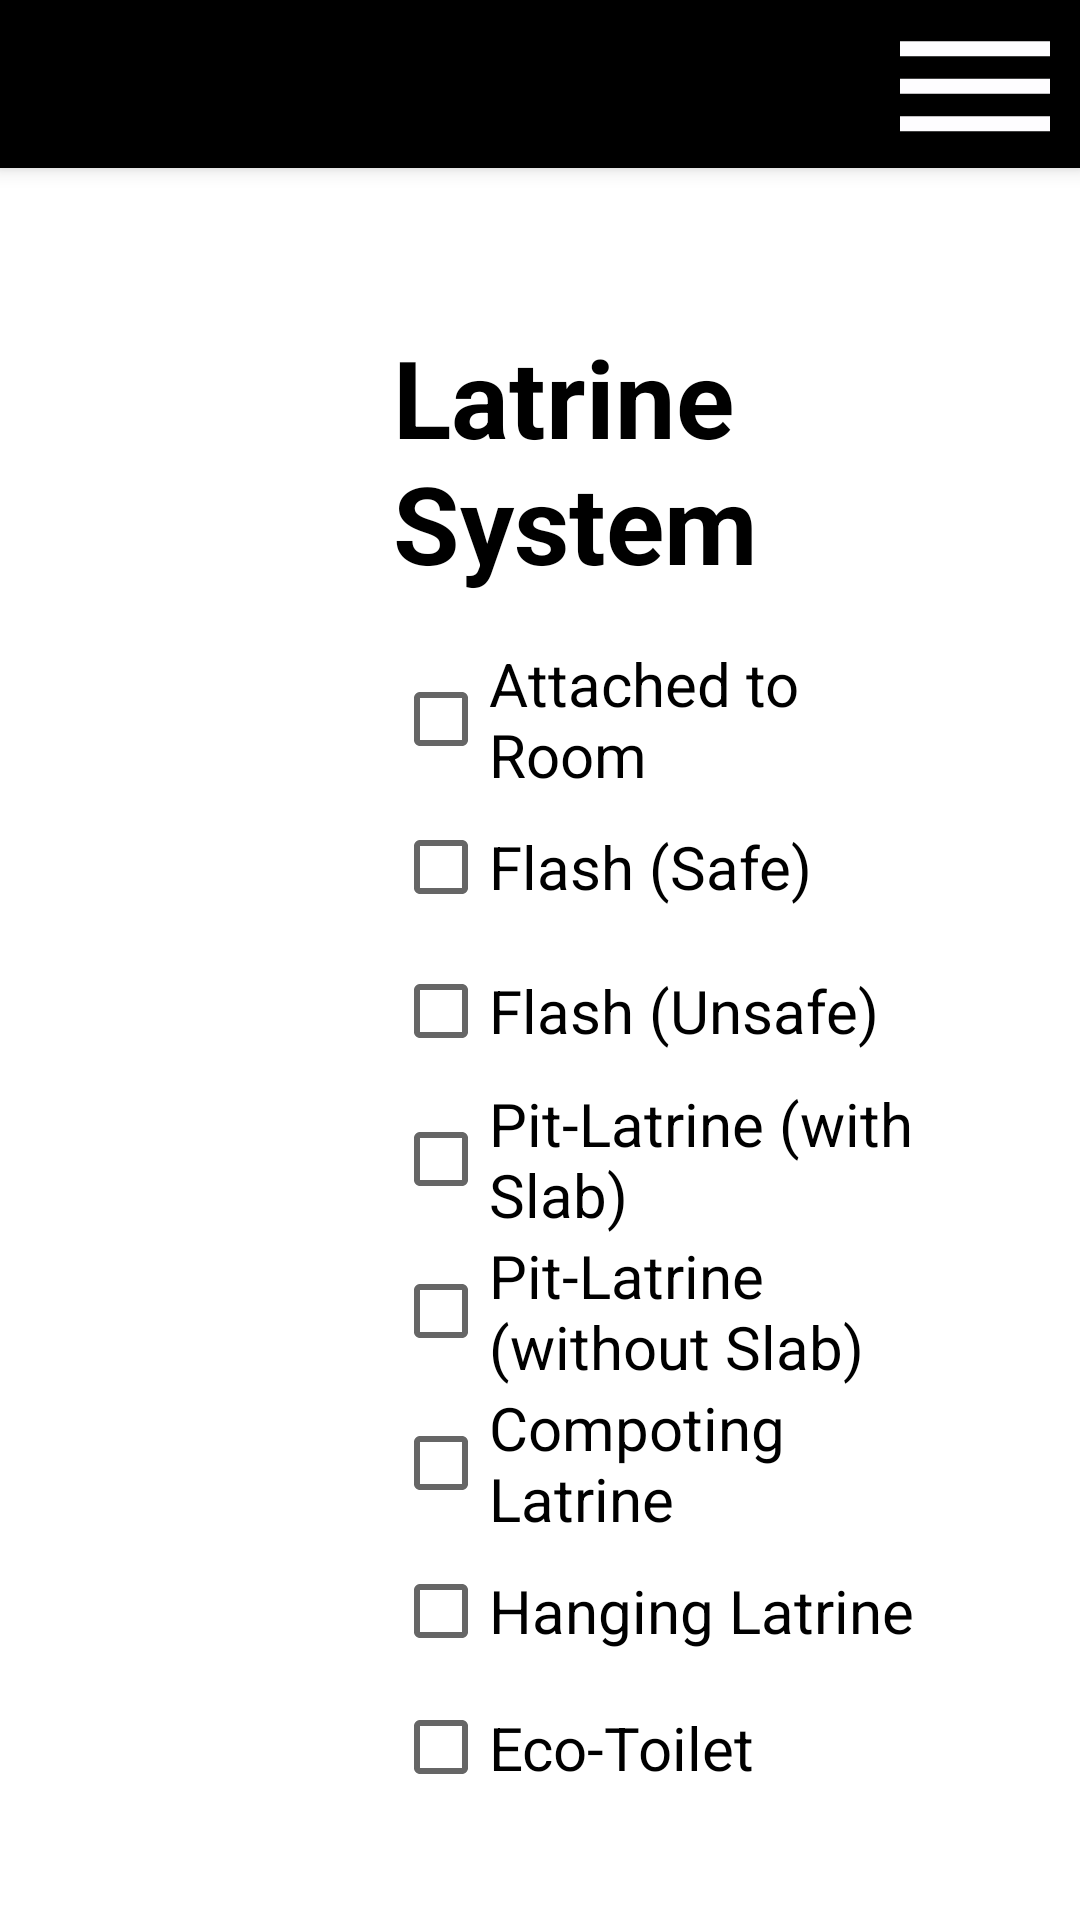

Point at icon controls on the screen. Image size 1080 × 1920, points as (x,y).
dehaze: (975,86)
